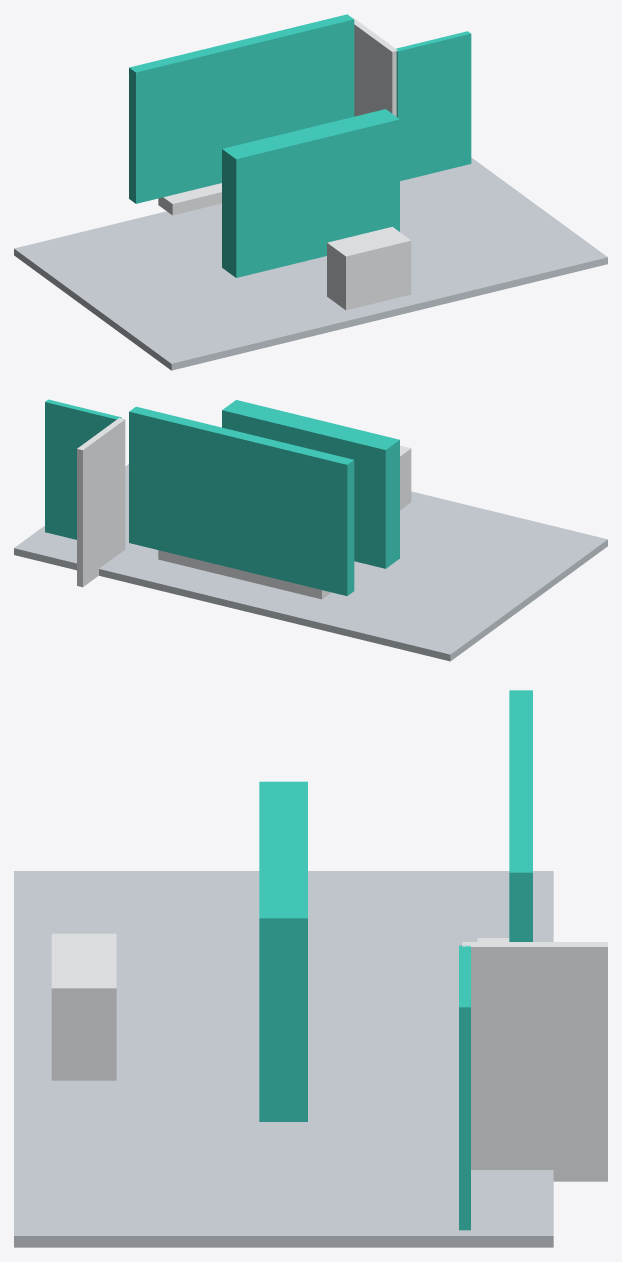
The picture shows the model from 3 angles, top to bottom: view 1: azimuth 30°, elevation 25°; view 2: azimuth 150°, elevation 25°; view 3: azimuth 270°, elevation 25°; orthographic projection. The views are drawn at different scales.
Parts seen in each view (by area): view 1: Exhibition Booth Concept; view 2: Exhibition Booth Concept; view 3: Exhibition Booth Concept.
Part boxes in pixels (x1=…): Exhibition Booth Concept: x1=14, y1=14, x2=607, y2=370; Exhibition Booth Concept: x1=14, y1=399, x2=607, y2=661; Exhibition Booth Concept: x1=14, y1=690, x2=607, y2=1247.
Size of the model in its own units: 8 by 2.9 by 5.51.
